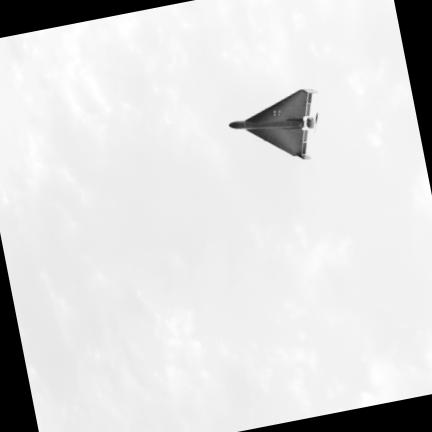Shahed: (229, 90, 316, 159)
